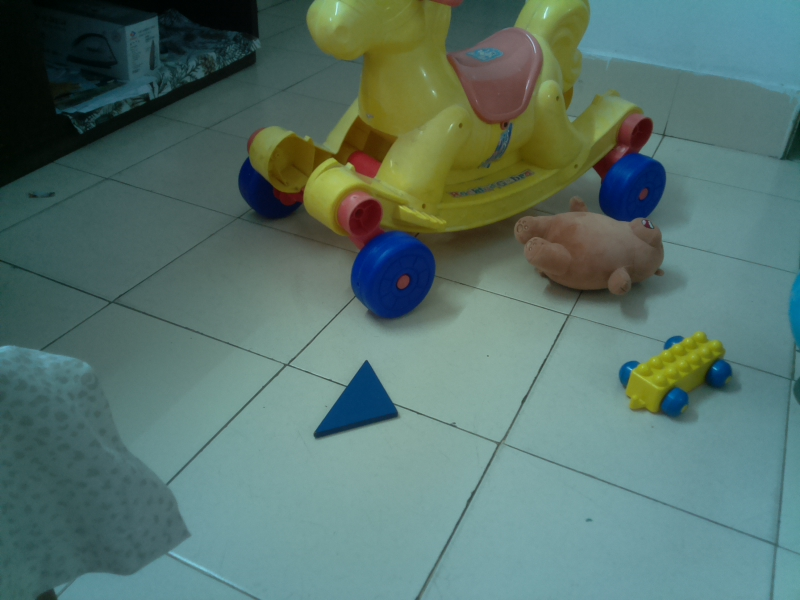Triangle: (313, 358, 401, 441)
toy_Car: (616, 328, 737, 420)
